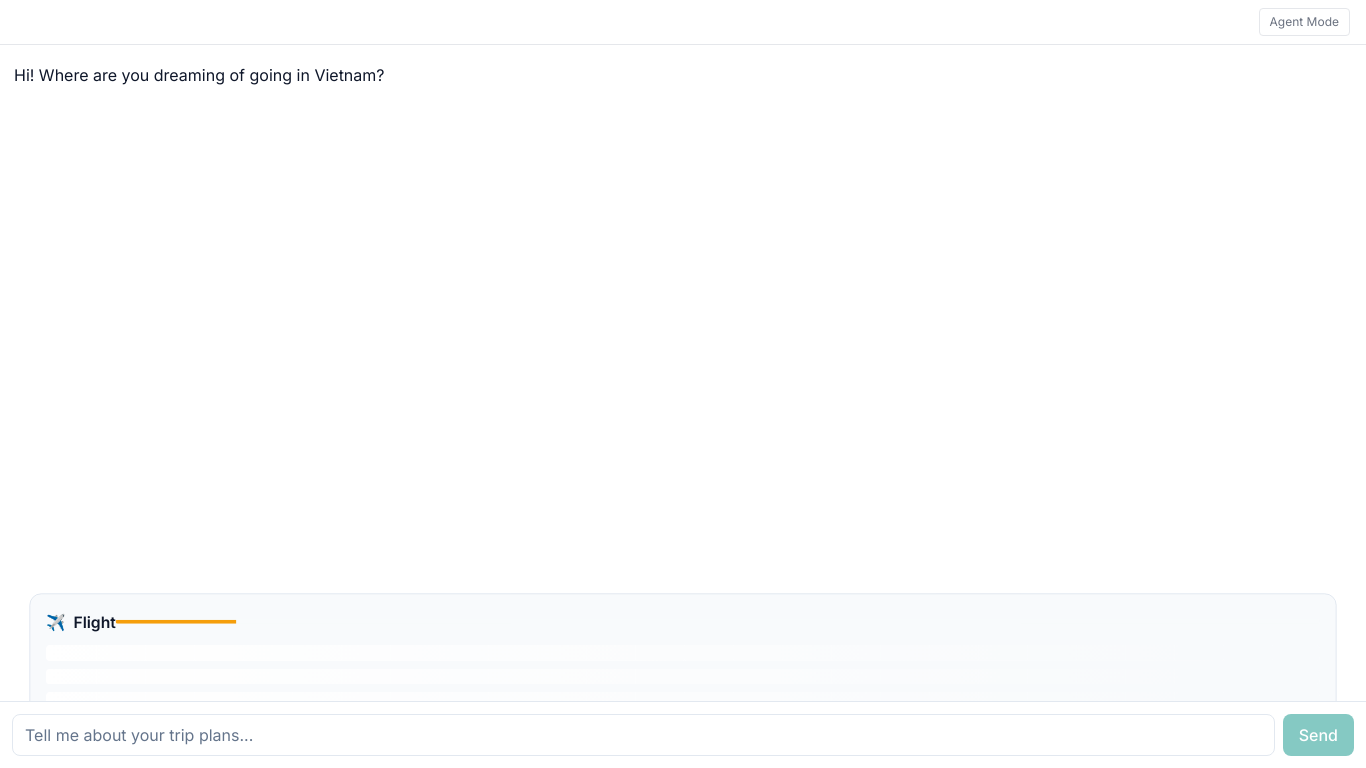
Test: DemoPage — destination card (AC2, AC3, AC4, AC5, AC6) › AC3: after mood chip select → destination card visible
In the field with test id "chat-input": (643, 735) 12,714 -> 1275,756, type "I need a holiday"
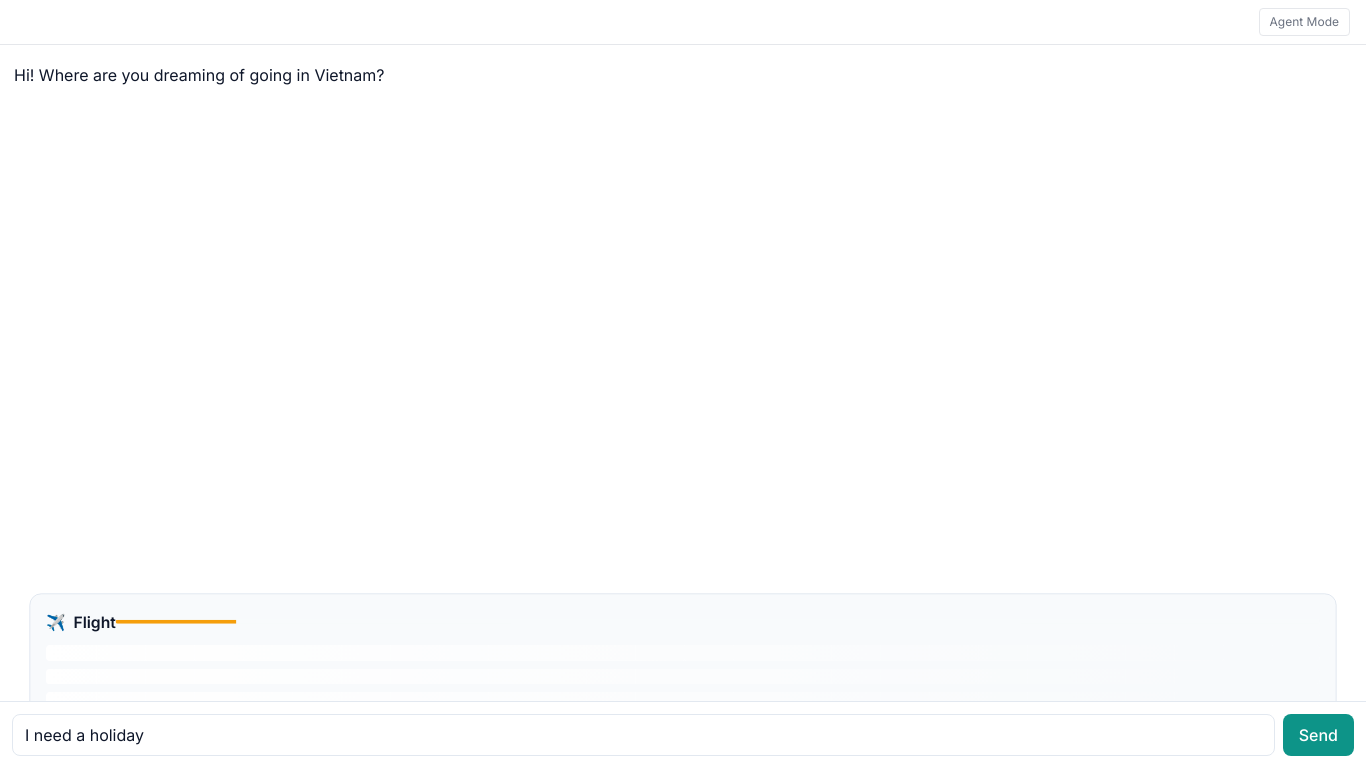
Submit the form with test id "chat-input", box 0,702 -> 1365,767
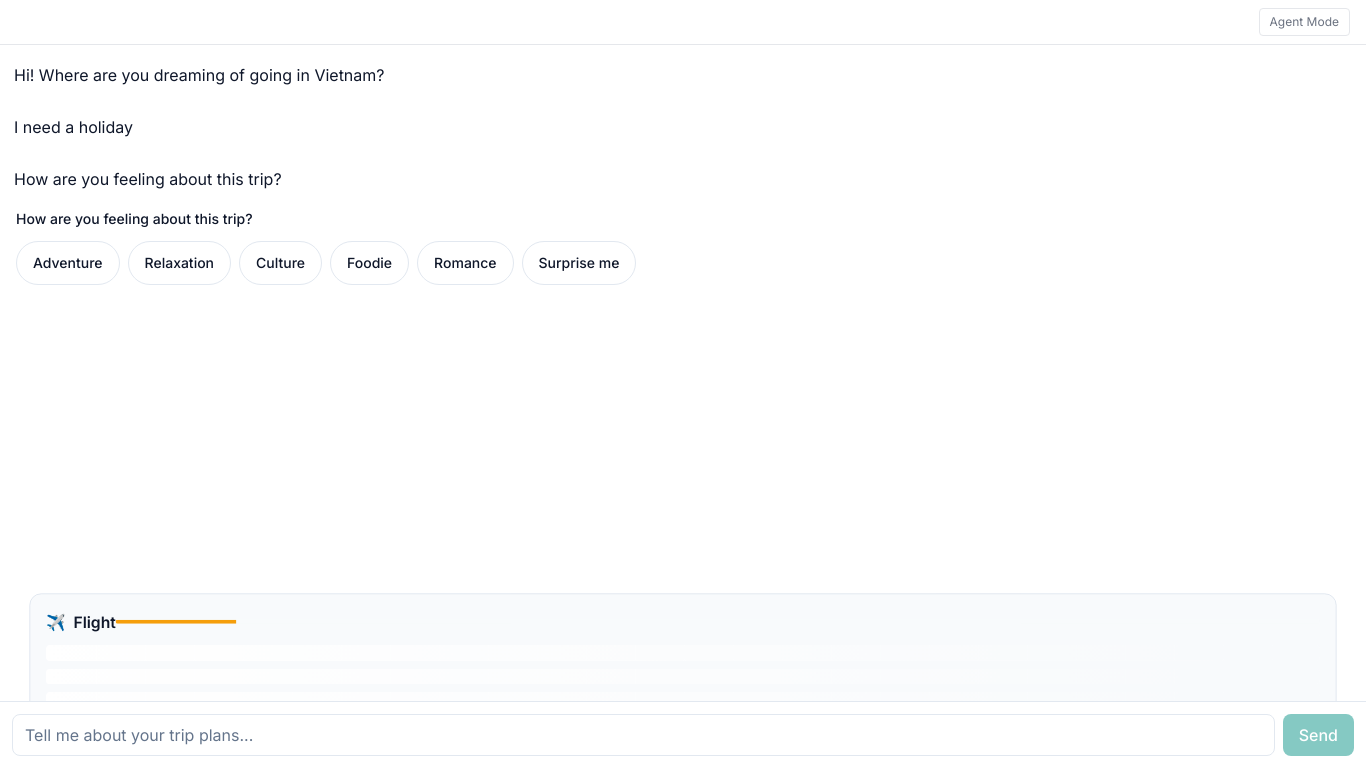
Expected: the element that starts with "How are you feeling about this trip?" is shown, 16,210 -> 636,285
Click the radio button labelled "Adventure": click(68, 263) 16,241 -> 120,285
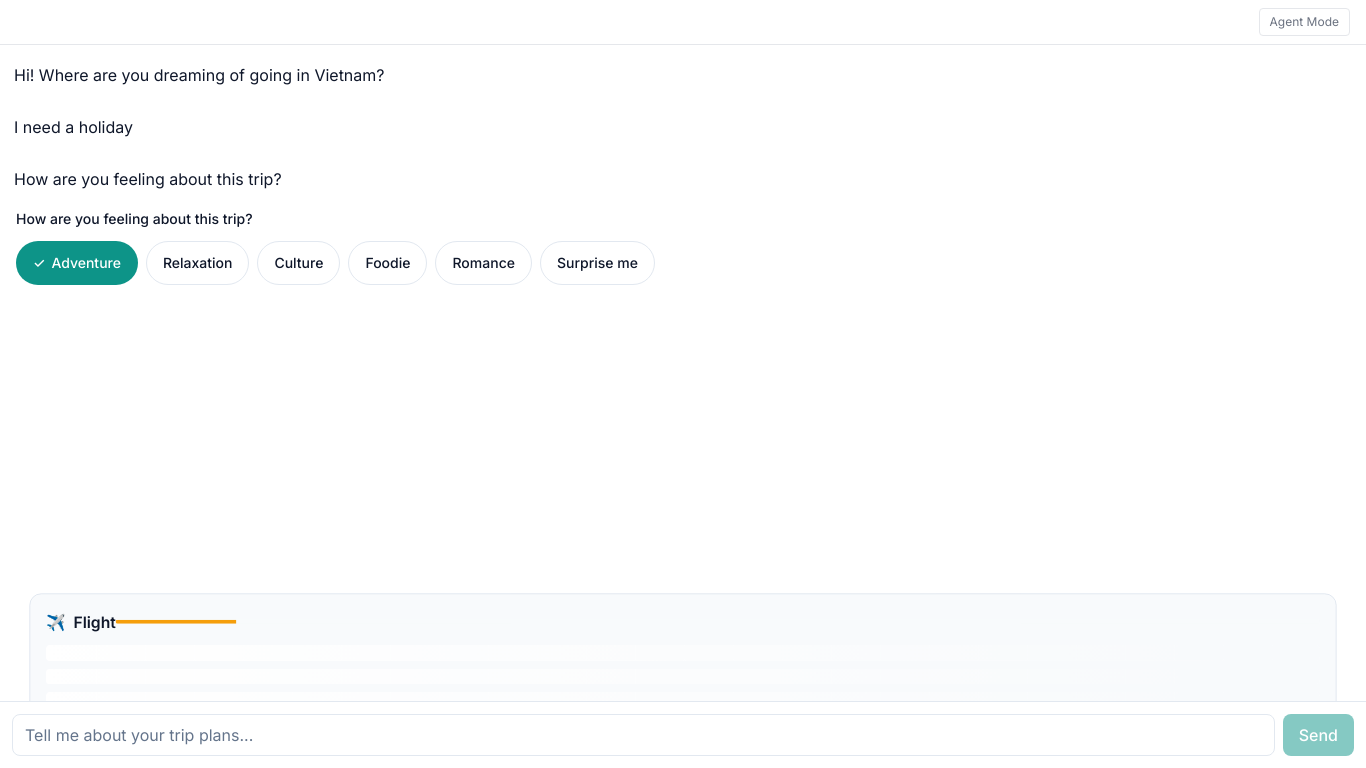
Press Enter in the radio button labelled "✓ Adventure", box 16,241 -> 138,285
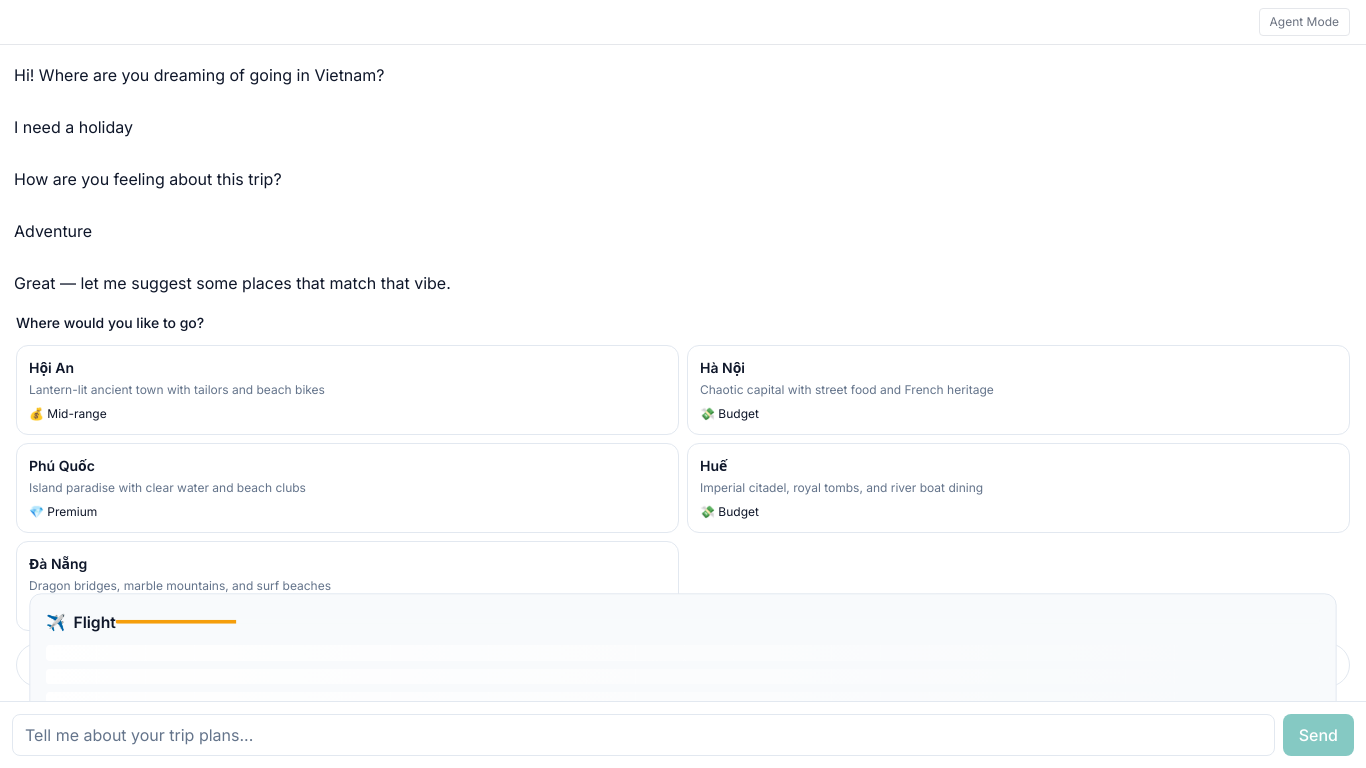
Expected: the element that starts with "Where would you like to go?" is shown, 16,313 -> 1350,687
Expected: the radio button labelled "Hội An" is shown, 16,345 -> 679,435
